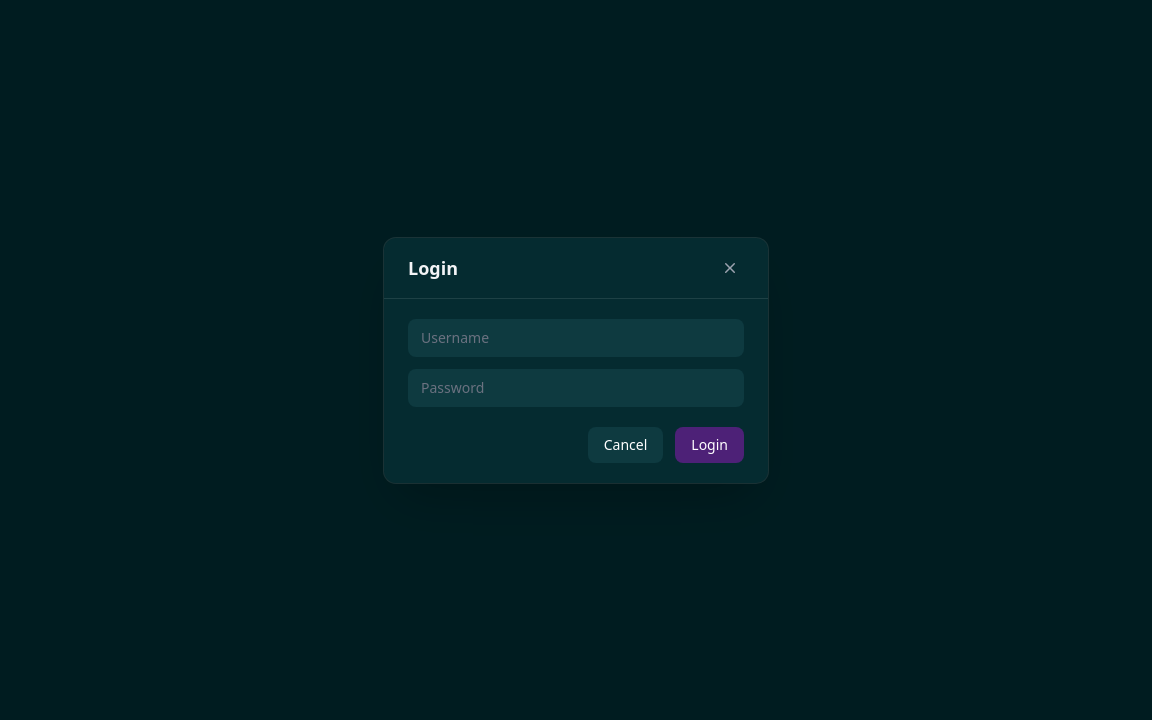
it: LoginDialog › shows an error when the new passwords do not match
Step 1. Type "test" into the field with placeholder "Username" → {"x": 576, "y": 338}, box [408,318,744,356]
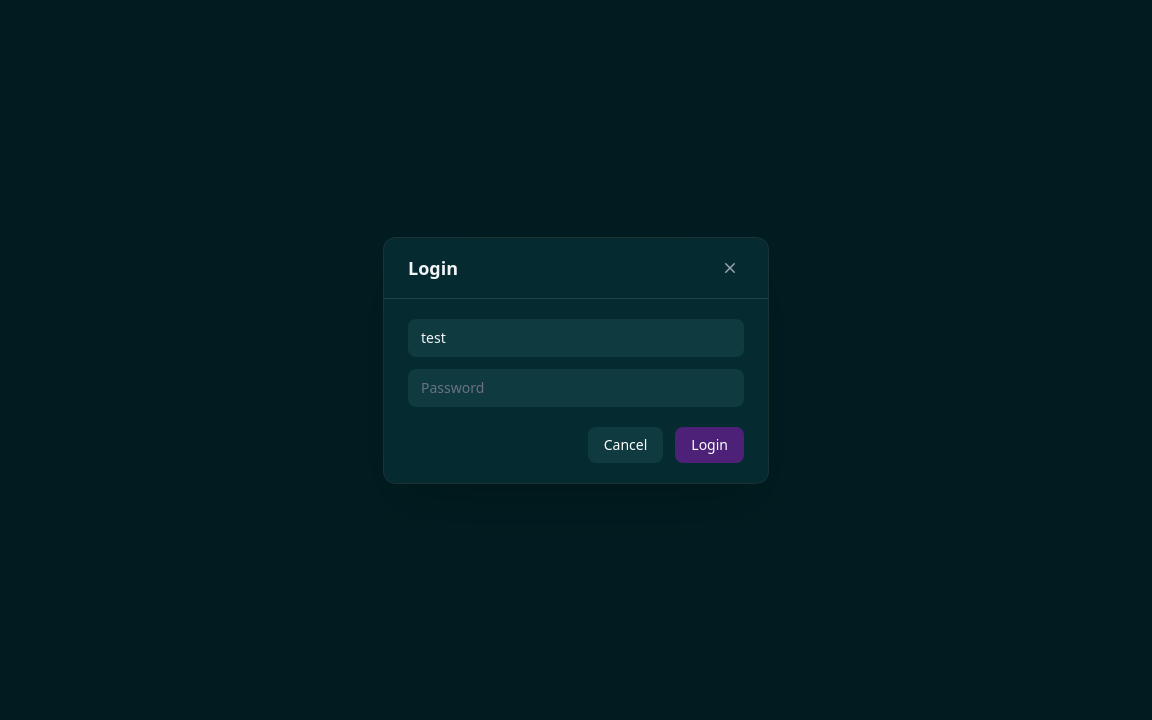
Step 2. Type "temp-pass" into the password field with placeholder "Password" → {"x": 576, "y": 388}, box [408,368,744,406]
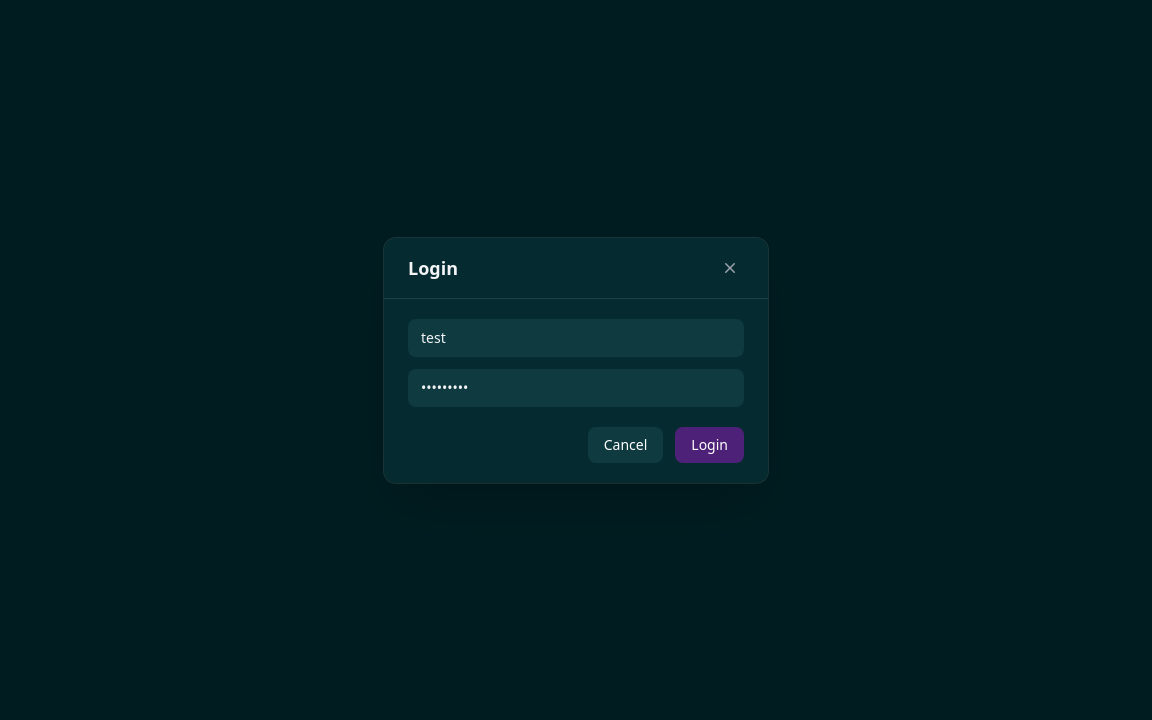
Step 3. Click the button "Login" → {"x": 710, "y": 444}, box [675,426,744,462]
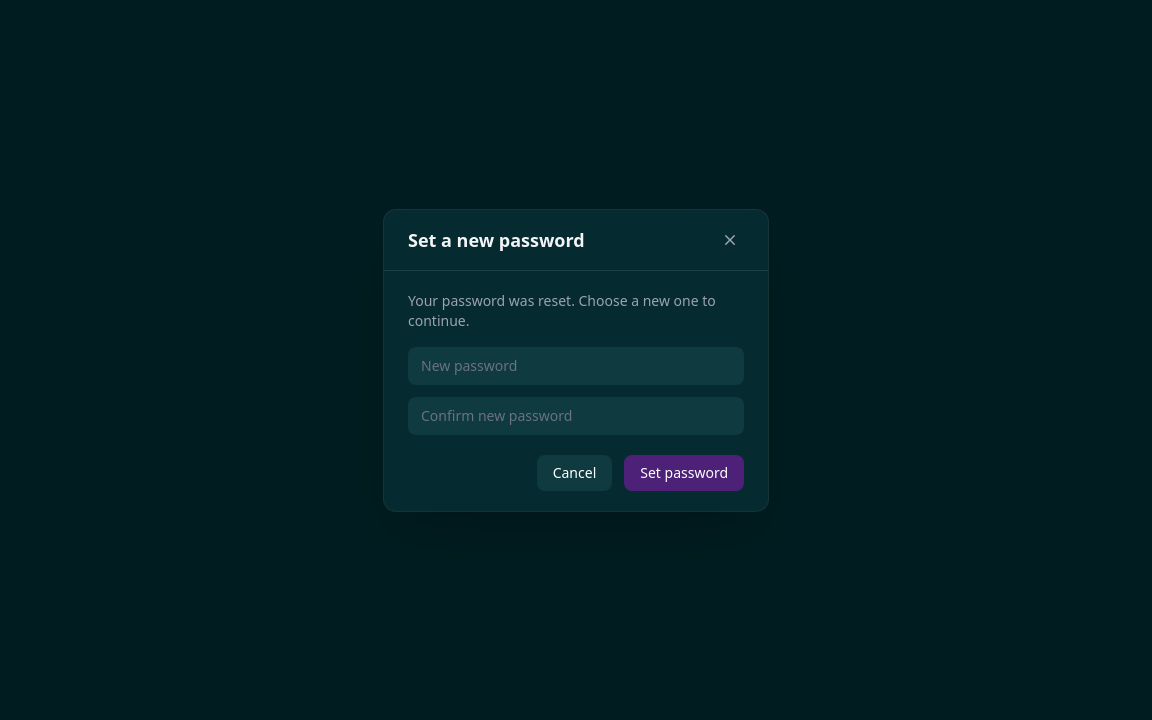
Check: the heading "Set a new password" is shown, box [408,226,585,254]
Step 4. Type "one" into the password field with placeholder "New password" → {"x": 576, "y": 366}, box [408,346,744,384]
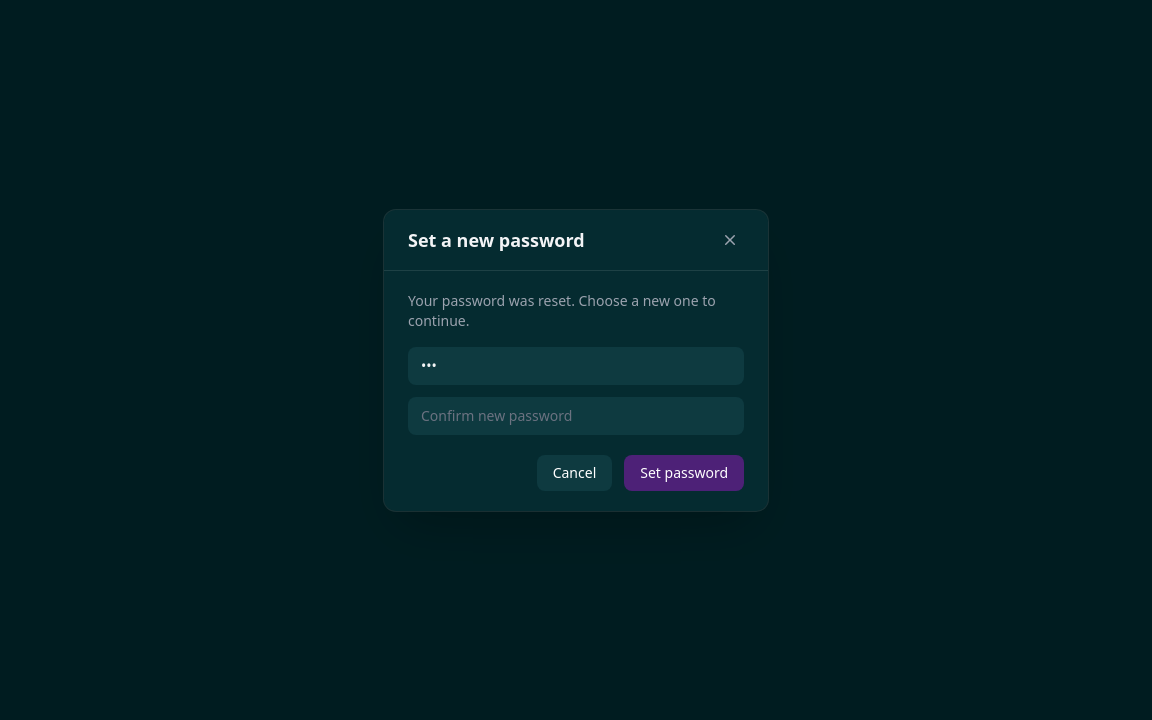
Step 5. Type "two" into the password field with placeholder "Confirm new password" → {"x": 576, "y": 416}, box [408,396,744,434]
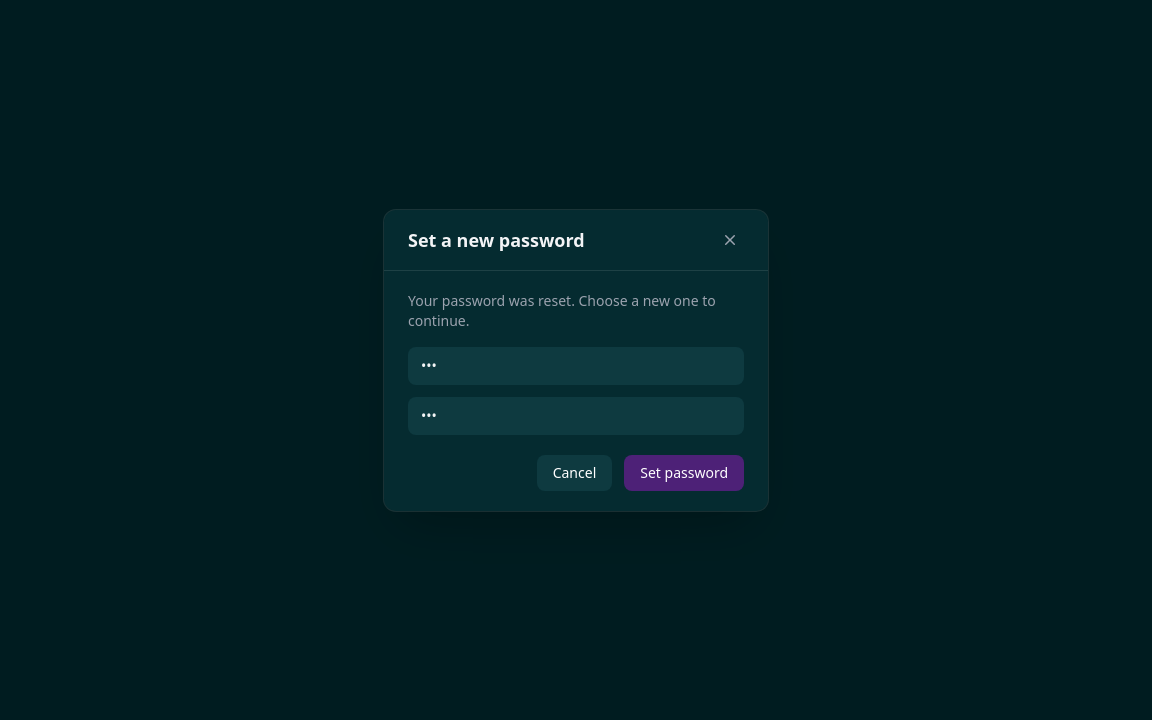
Step 6. Click the button "Set password" → {"x": 684, "y": 472}, box [624,454,744,490]
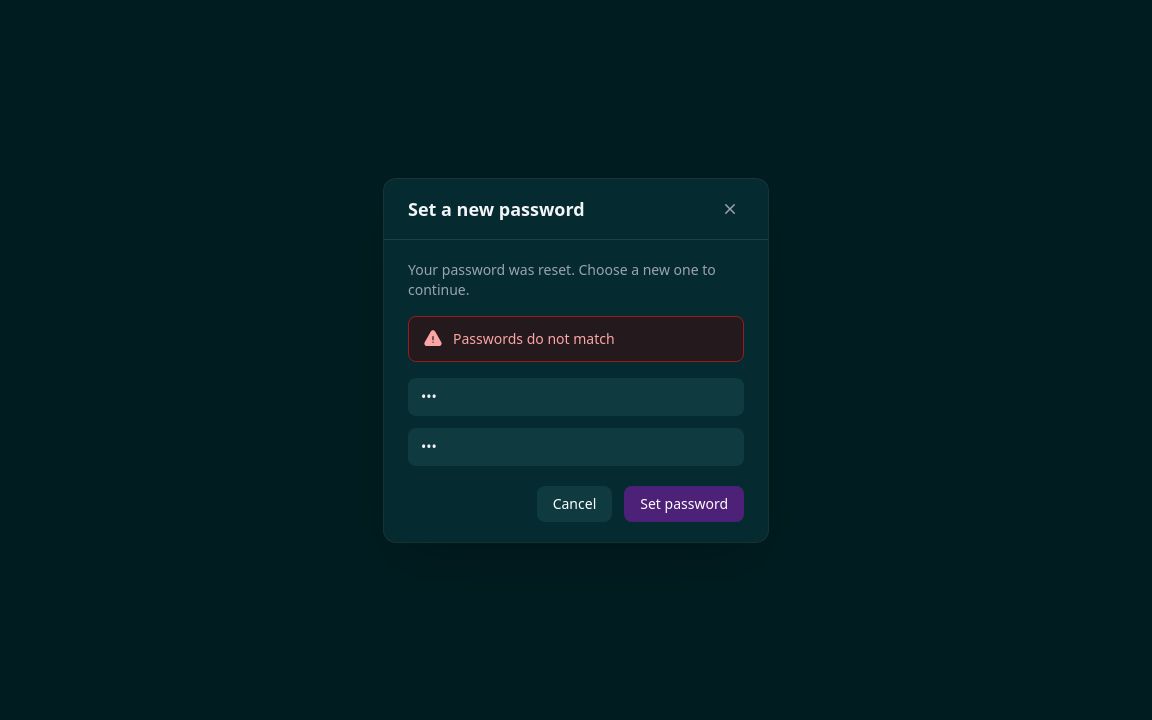
Check: the text "Passwords do not match" is shown, box [453,328,615,348]
